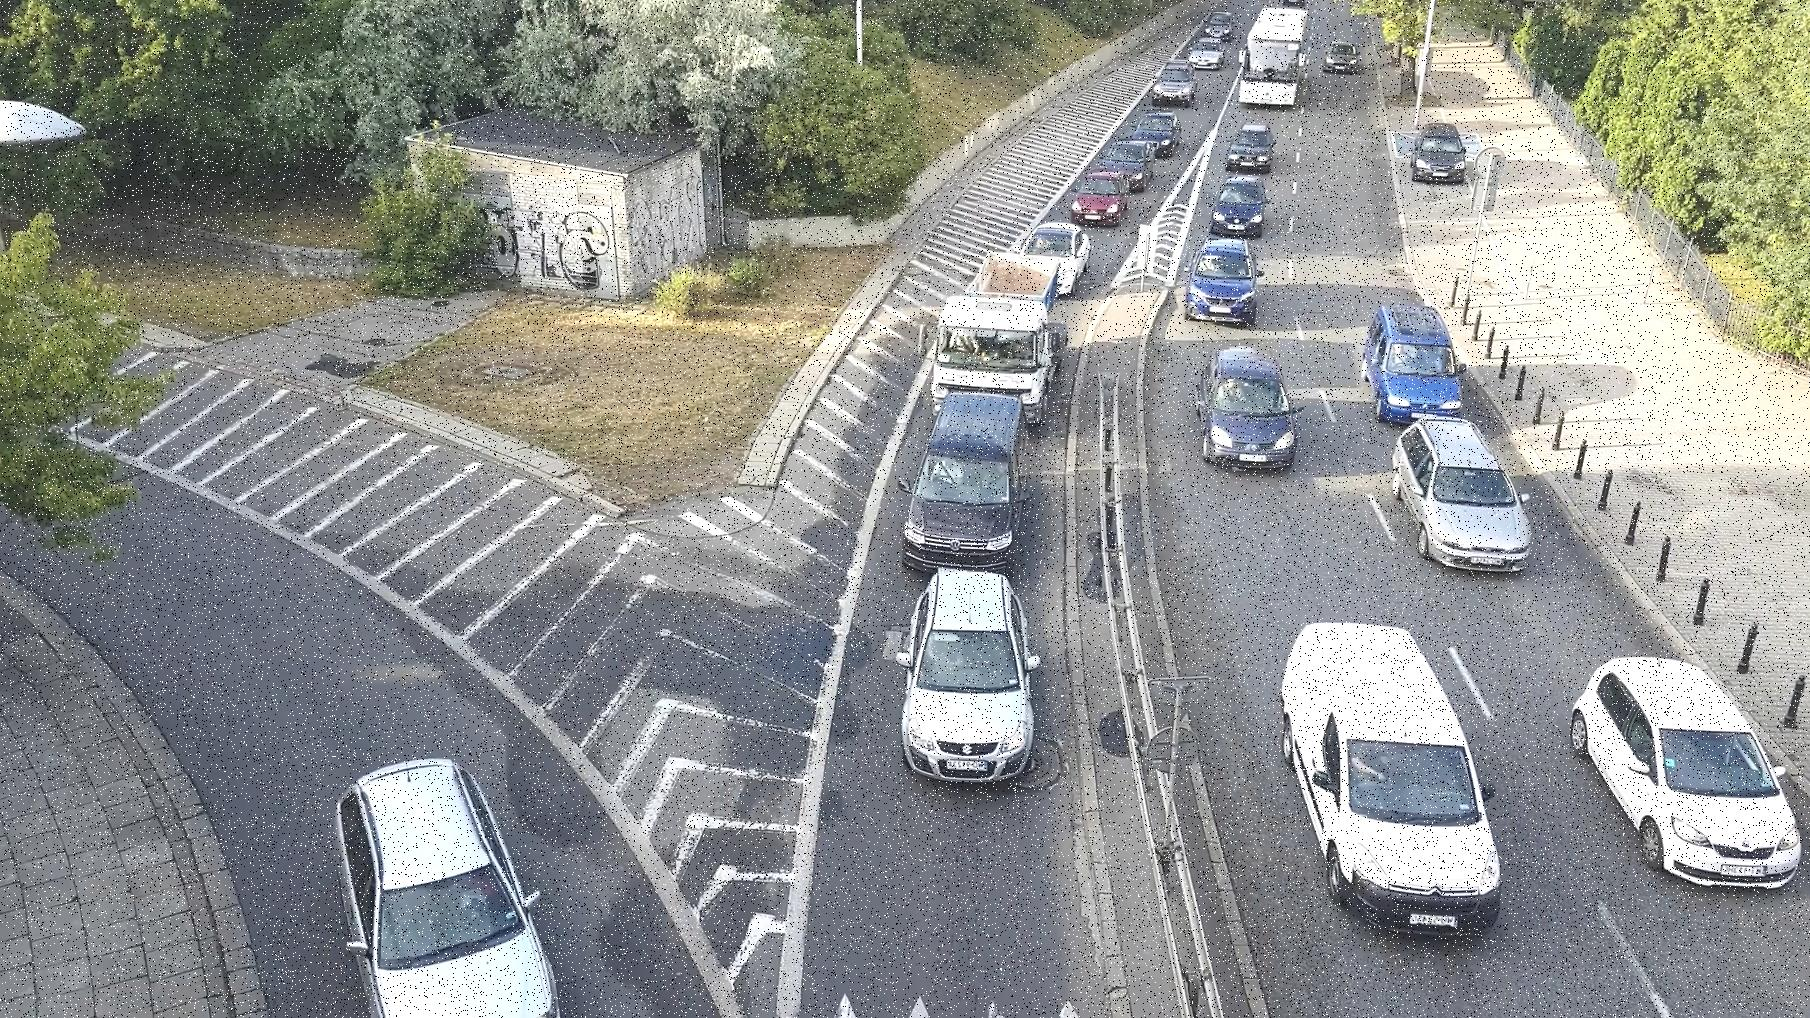bus: (1232, 5, 1305, 117)
car: (1267, 619, 1508, 943), (295, 771, 569, 1018), (1554, 644, 1800, 891), (891, 580, 1039, 784), (895, 387, 1033, 571), (1387, 418, 1538, 562), (1353, 298, 1472, 425), (1190, 343, 1293, 467), (1182, 237, 1263, 327), (1407, 117, 1467, 191), (1200, 180, 1282, 230), (1067, 162, 1134, 221), (1226, 119, 1278, 173), (1152, 58, 1203, 107), (1326, 40, 1356, 67)
truck: (924, 259, 1082, 400)
